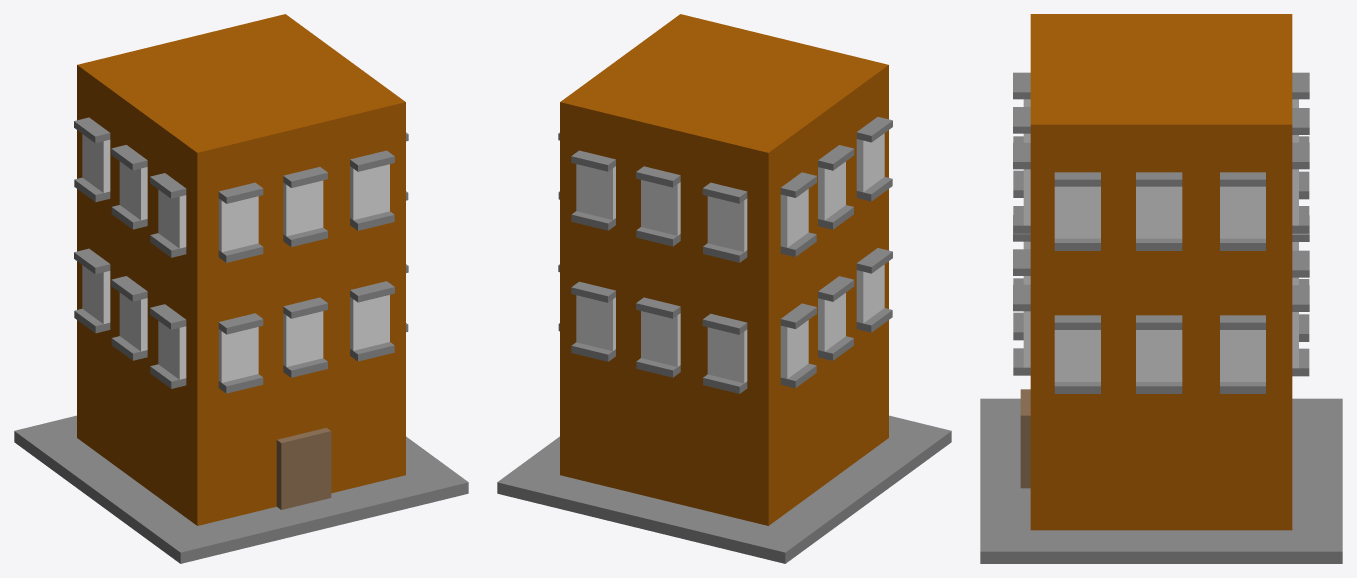
Rendered from Building1_Default.fbx.
The picture shows the model from 3 angles, left to right: view 1: azimuth 30°, elevation 25°; view 2: azimuth 150°, elevation 25°; view 3: azimuth 270°, elevation 25°; orthographic projection. The views are drawn at different scales.
Visible parts, largest first — view 1: Building1_Default; view 2: Building1_Default; view 3: Building1_Default.
Boxes of the visible parts, x1=… form: Building1_Default: x1=14, y1=14, x2=468, y2=563; Building1_Default: x1=497, y1=14, x2=951, y2=563; Building1_Default: x1=980, y1=14, x2=1342, y2=563.
Bounding box in the file's own units: 5.79 × 7.39 × 5.79.
